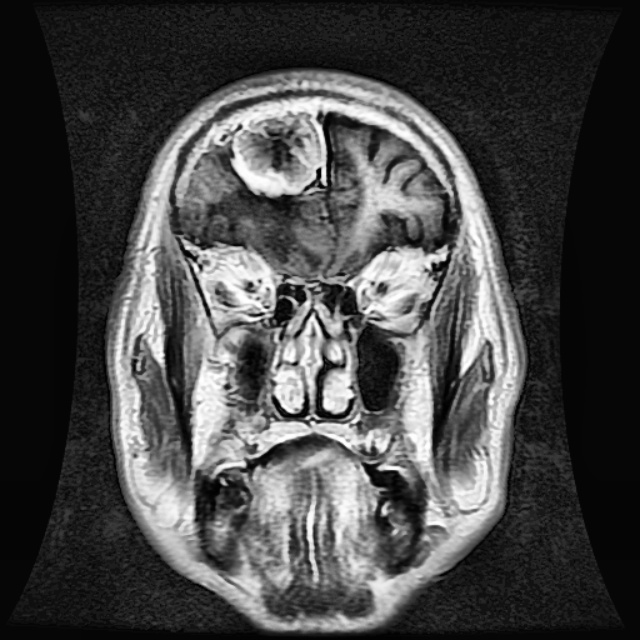Glioma: (230, 113, 322, 197)
